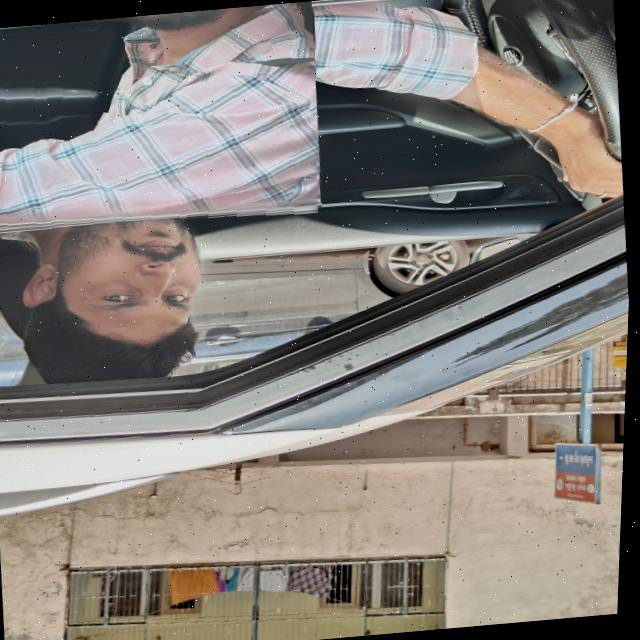no-seatbelt: (0, 0, 328, 237)
